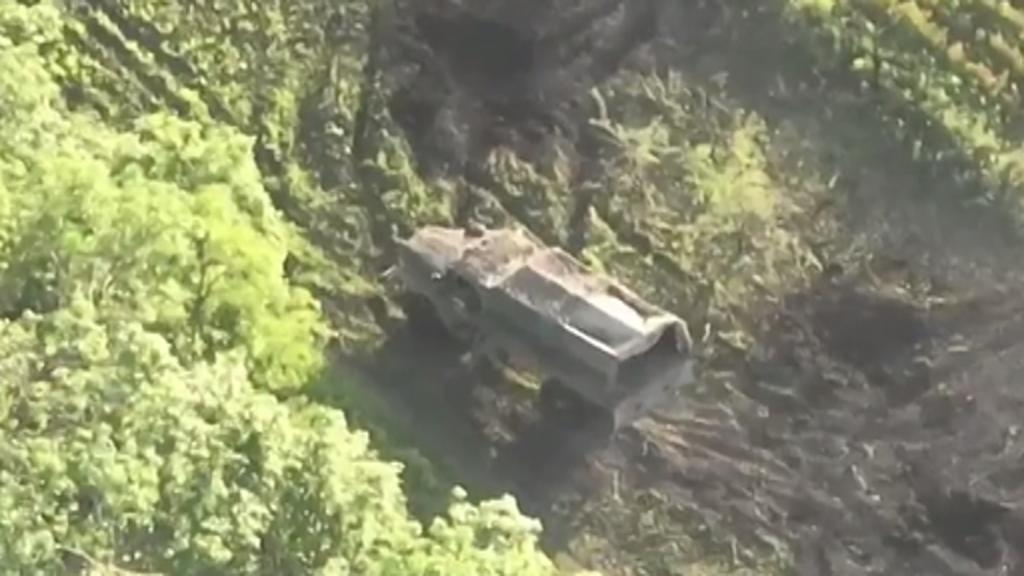TRUCK: (392, 218, 690, 454)
